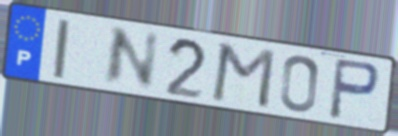0: (278, 53, 322, 114)
2: (162, 36, 212, 100)
I: (50, 17, 72, 81)
M: (208, 41, 278, 112)
N: (100, 25, 162, 91)
P: (326, 56, 383, 123)
